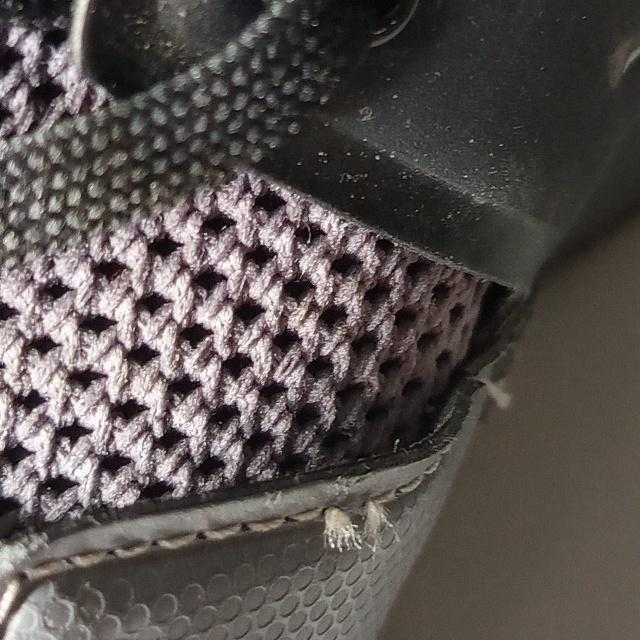broken-error: (312, 479, 408, 565)
